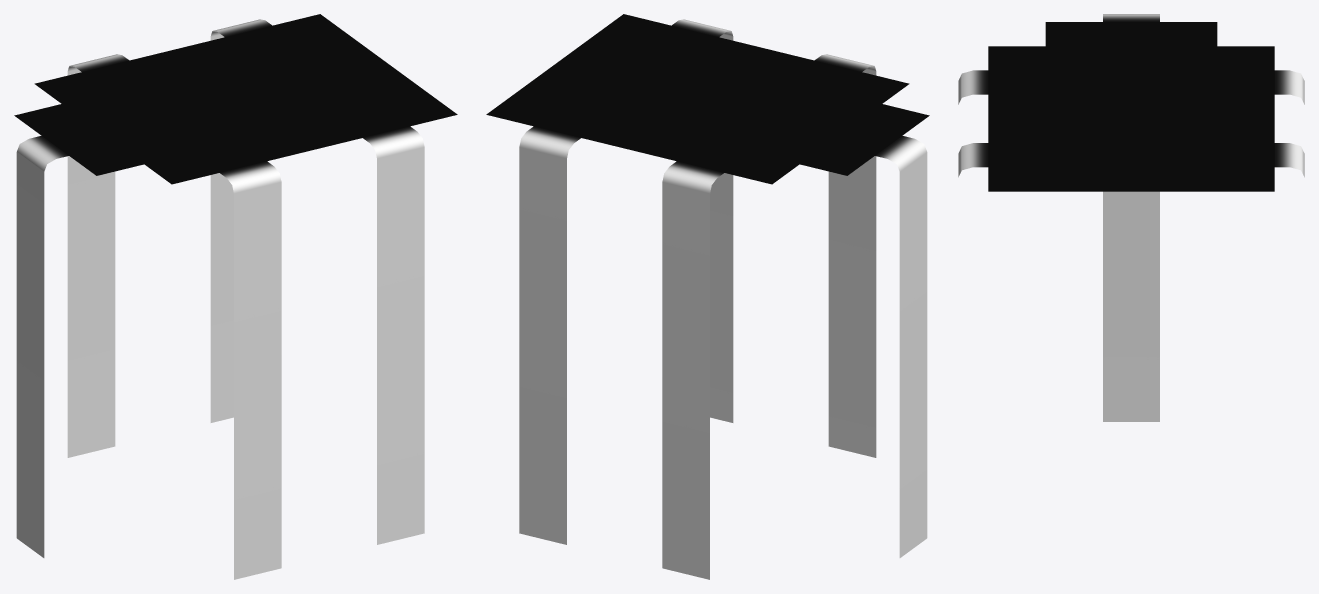
The model's file is room1Water_MESH.fbx.
3 views of the same model, side by side, from view 1: azimuth 30°, elevation 25°; view 2: azimuth 150°, elevation 25°; view 3: azimuth 270°, elevation 25° (orthographic). The views are drawn at different scales.
Visible parts, largest first — view 1: room1; view 2: room1; view 3: room1.
Boxes of the visible parts, <box> form: room1: <box>14,14,457,579</box>; room1: <box>486,14,929,579</box>; room1: <box>958,14,1304,421</box>.
Bounding box in the file's own units: 0.0752 × 0.0795 × 0.0605.
